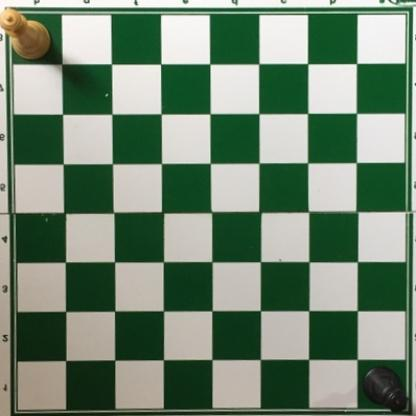black-queen: (360, 364, 410, 416)
white-queen: (0, 7, 52, 61)
